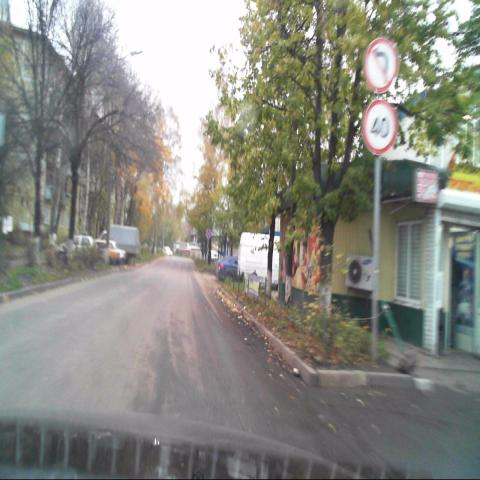3_18_2: (364, 37, 398, 94)
3_24: (362, 99, 396, 154)
